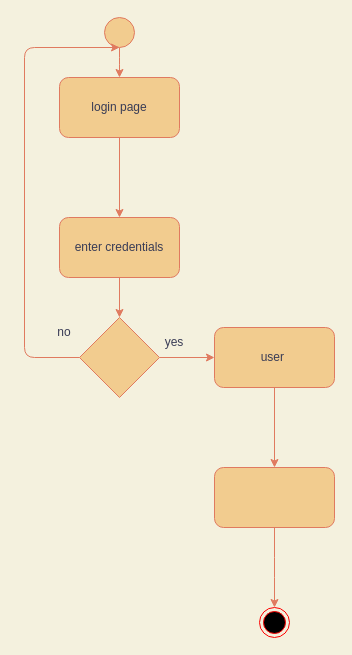
This 352x655 diagram has some shape labels left out. The shapes that lost their labels are listed below. From the top down, each one's centre as x and y in pixels, then its label:
pixel 119 357: correct
pixel 274 497: create client
